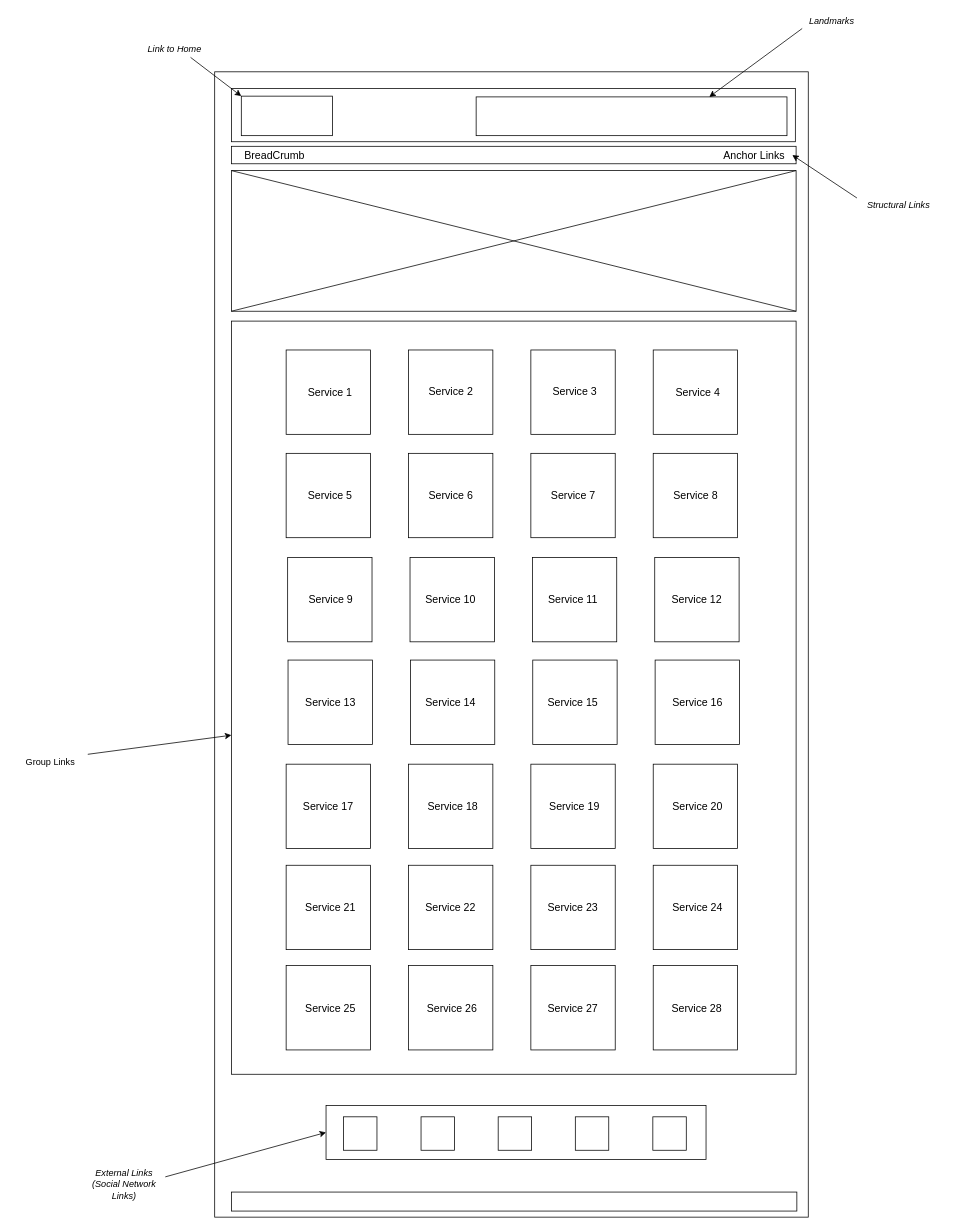
The diagram is 953 pixels wide and 1230 high, and some of its shapes have lost their labels. The shapes that lost their labels are listed below. From the top down, each one's centre as x and y in pixels, then its label:
At pixel 286 115: "LOGO".
At pixel 631 116: "About Us Areas Services Industries Our Team Contact Us".
At pixel 513 240: "ALL SERVICES".
At pixel 514 1201: "Footer".
